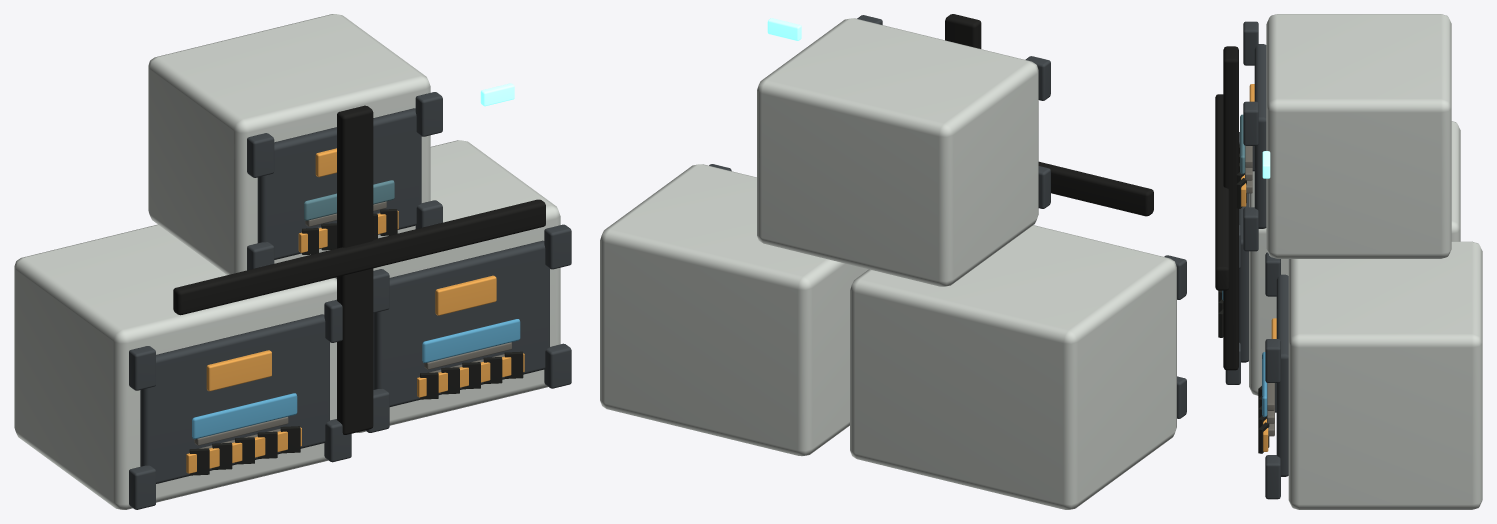
Rendered from hp_room_crate_stack.glb.
3 views of the same model, side by side, from view 1: azimuth 30°, elevation 25°; view 2: azimuth 150°, elevation 25°; view 3: azimuth 270°, elevation 25° (orthographic). The views are drawn at different scales.
Visible parts, largest first — view 1: room_crate_stack_body_base_l, room_crate_stack_body_top, room_crate_stack_frame_base_l_front, room_crate_stack_frame_base_r_front, room_crate_stack_body_base_r, room_crate_stack_frame_top_front, room_crate_stack_strap_horizontal, room_crate_stack_strap_vertical, room_crate_stack_base_l_wide_color_id_art_color_block, room_crate_stack_base_r_wide_color_id_art_color_block, room_crate_stack_label_base_l, room_crate_stack_label_base_r (+17 smaller); view 2: room_crate_stack_body_base_l, room_crate_stack_body_top, room_crate_stack_body_base_r, room_crate_stack_strap_horizontal, room_crate_stack_strap_vertical; view 3: room_crate_stack_body_base_r, room_crate_stack_body_top, room_crate_stack_strap_vertical, room_crate_stack_body_base_l, room_crate_stack_strap_horizontal, room_crate_stack_frame_base_r_front, room_crate_stack_frame_top_front, room_crate_stack_frame_base_l_front, room_crate_stack_corner_guard_top_0.21_0.13, room_crate_stack_corner_guard_top_0.21_-0.13, room_crate_stack_corner_guard_base_r_0.23_-0.15, room_crate_stack_corner_guard_base_r_0.23_0.15 (+3 smaller).
Boxes of the visible parts, x1=… form: room_crate_stack_body_base_l: x1=14, y1=224, x2=336, y2=509; room_crate_stack_body_top: x1=148, y1=14, x2=430, y2=274; room_crate_stack_frame_base_l_front: x1=140, y1=314, x2=329, y2=483; room_crate_stack_frame_base_r_front: x1=373, y1=240, x2=549, y2=406; room_crate_stack_body_base_r: x1=335, y1=140, x2=560, y2=432; room_crate_stack_frame_top_front: x1=257, y1=108, x2=421, y2=259; room_crate_stack_strap_horizontal: x1=173, y1=199, x2=545, y2=315; room_crate_stack_strap_vertical: x1=337, y1=105, x2=373, y2=434; room_crate_stack_base_l_wide_color_id_art_color_block: x1=192, y1=393, x2=297, y2=439; room_crate_stack_base_r_wide_color_id_art_color_block: x1=422, y1=319, x2=520, y2=362; room_crate_stack_label_base_l: x1=206, y1=350, x2=271, y2=391; room_crate_stack_label_base_r: x1=435, y1=275, x2=496, y2=315; room_crate_stack_body_base_l: x1=850, y1=225, x2=1176, y2=509; room_crate_stack_body_top: x1=757, y1=18, x2=1038, y2=286; room_crate_stack_body_base_r: x1=600, y1=164, x2=868, y2=456; room_crate_stack_strap_horizontal: x1=1038, y1=161, x2=1153, y2=216; room_crate_stack_strap_vertical: x1=945, y1=14, x2=981, y2=48; room_crate_stack_body_base_r: x1=1288, y1=241, x2=1482, y2=509; room_crate_stack_body_top: x1=1266, y1=14, x2=1451, y2=258; room_crate_stack_strap_vertical: x1=1223, y1=46, x2=1238, y2=370; room_crate_stack_body_base_l: x1=1249, y1=121, x2=1460, y2=395; room_crate_stack_strap_horizontal: x1=1215, y1=94, x2=1229, y2=290; room_crate_stack_frame_base_r_front: x1=1276, y1=274, x2=1288, y2=476; room_crate_stack_frame_top_front: x1=1254, y1=44, x2=1266, y2=228; room_crate_stack_frame_base_l_front: x1=1239, y1=193, x2=1248, y2=362; room_crate_stack_corner_guard_top_0.21_0.13: x1=1243, y1=101, x2=1258, y2=145; room_crate_stack_corner_guard_top_0.21_-0.13: x1=1243, y1=207, x2=1258, y2=251; room_crate_stack_corner_guard_base_r_0.23_-0.15: x1=1265, y1=455, x2=1280, y2=499; room_crate_stack_corner_guard_base_r_0.23_0.15: x1=1265, y1=339, x2=1280, y2=382.
Bounding box in the file's own units: 1.19 × 0.87 × 0.606.
